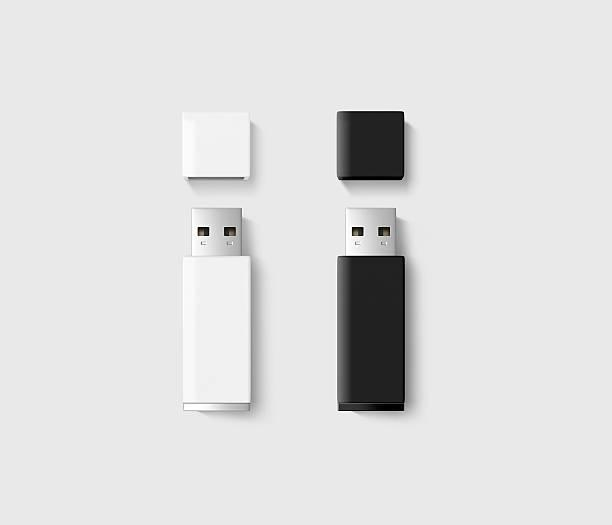USB Flash Drive: (337, 207, 405, 412)
